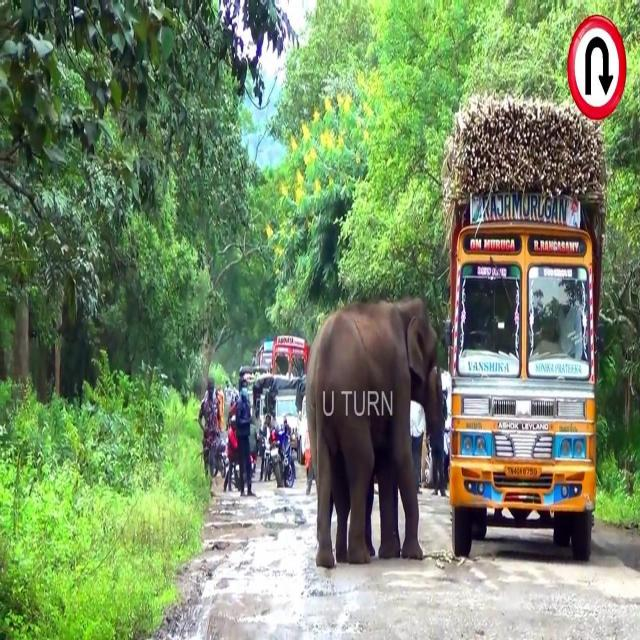Elephant: (306, 295, 442, 570)
